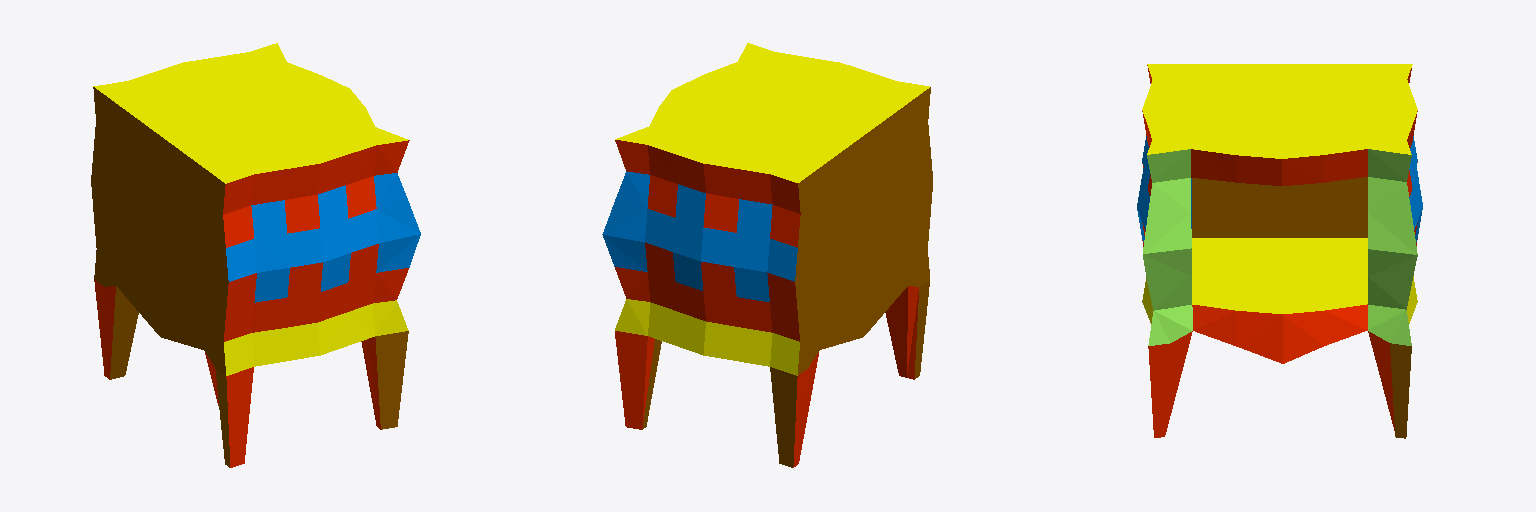
The picture shows the model from 3 angles: view 1: azimuth 30°, elevation 25°; view 2: azimuth 150°, elevation 25°; view 3: azimuth 270°, elevation 25°; orthographic projection.
Visible parts, largest first — view 1: Cube1; view 2: Cube1; view 3: Cube1.
Boxes of the visible parts, x1=… form: Cube1: x1=91, y1=43, x2=420, y2=467; Cube1: x1=602, y1=43, x2=932, y2=467; Cube1: x1=1137, y1=64, x2=1422, y2=438.
Bounding box in the file's own units: 301 × 430 × 386.